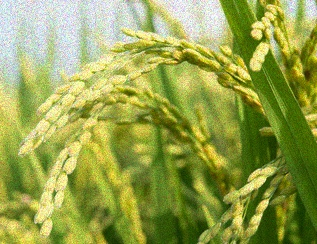rice: (13, 14, 260, 236)
